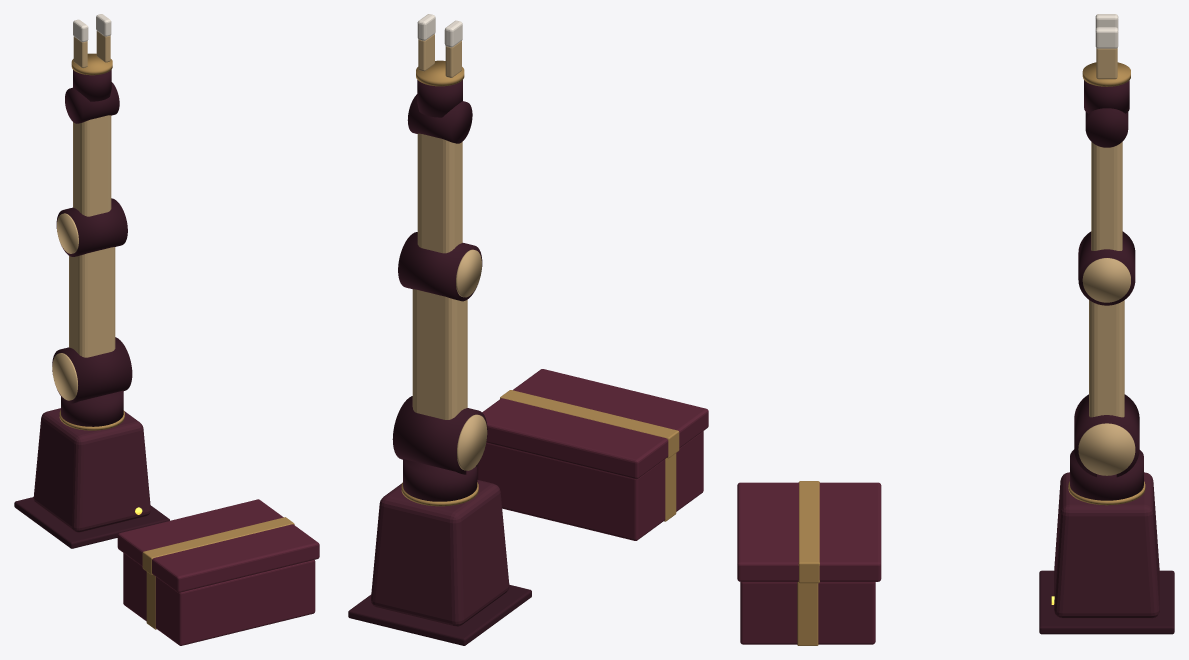
The model's file is robot.glb.
The picture shows the model from 3 angles, left to right: view 1: azimuth 30°, elevation 25°; view 2: azimuth 150°, elevation 25°; view 3: azimuth 270°, elevation 25°; orthographic projection. The views are drawn at different scales.
Visible parts, largest first — view 1: Base, Lid, ParcelBox, UpperArm, Forearm, ShoulderHub, Plinth, ElbowHub, Turret, LidBand, WristHub, WristBody (+4 smaller); view 2: Base, Lid, ParcelBox, UpperArm, Forearm, ShoulderHub, Plinth, ElbowHub, Turret, LidBand, WristHub, WristBody (+6 smaller); view 3: Base, Lid, ParcelBox, UpperArm, Plinth, Forearm, ShoulderCap.001, LidBand, Turret, ShoulderHub, ElbowCap.001, ElbowHub (+5 smaller).
Part boxes in pixels (x1,y1,x2,y2): Base: (33, 408, 150, 532); Lid: (117, 499, 319, 592); ParcelBox: (123, 553, 315, 645); UpperArm: (69, 247, 115, 357); Forearm: (73, 115, 111, 216); ShoulderHub: (52, 337, 132, 403); Plinth: (14, 497, 169, 548); ElbowHub: (56, 198, 127, 256); Turret: (61, 390, 123, 426); LidBand: (142, 517, 294, 574); WristHub: (65, 82, 119, 123); WristBody: (73, 70, 111, 101); Base: (371, 480, 509, 626); Lid: (482, 369, 708, 479); ParcelBox: (477, 431, 703, 540); UpperArm: (412, 289, 467, 419); Forearm: (417, 133, 462, 253); ShoulderHub: (392, 396, 487, 474); Plinth: (348, 584, 531, 645); ElbowHub: (398, 232, 482, 301); Turret: (403, 459, 477, 501); LidBand: (500, 390, 679, 458); WristHub: (407, 94, 472, 143); WristBody: (417, 80, 462, 117); Base: (1054, 472, 1159, 618); Lid: (737, 482, 881, 581); ParcelBox: (740, 582, 875, 644); UpperArm: (1089, 300, 1124, 417); Plinth: (1039, 570, 1174, 634); Forearm: (1091, 142, 1122, 250); ShoulderCap.001: (1078, 423, 1135, 475); LidBand: (798, 481, 819, 583); Turret: (1070, 449, 1143, 500); ShoulderHub: (1074, 394, 1139, 477); ElbowCap.001: (1082, 258, 1130, 302); ElbowHub: (1078, 231, 1135, 305).
Bounding box in the file's own units: 0.274 × 0.907 × 0.614.
